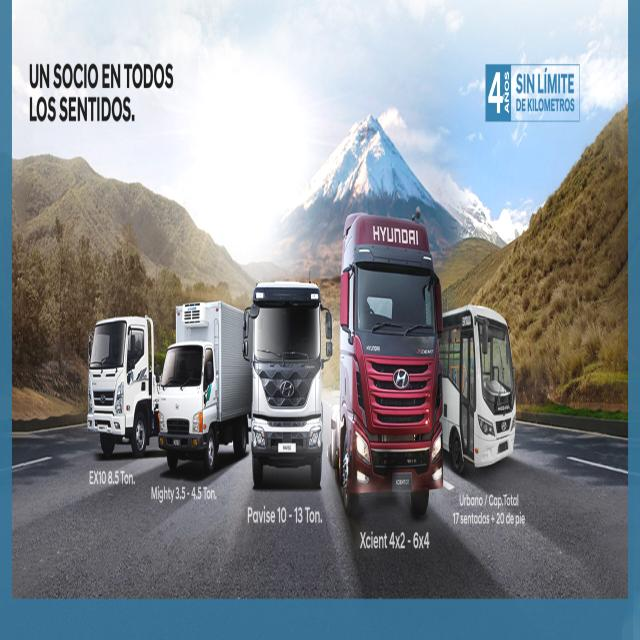BUS: (441, 304, 520, 487)
TRUCK: (333, 208, 448, 520), (244, 271, 332, 501), (155, 290, 251, 483), (82, 312, 164, 461)
